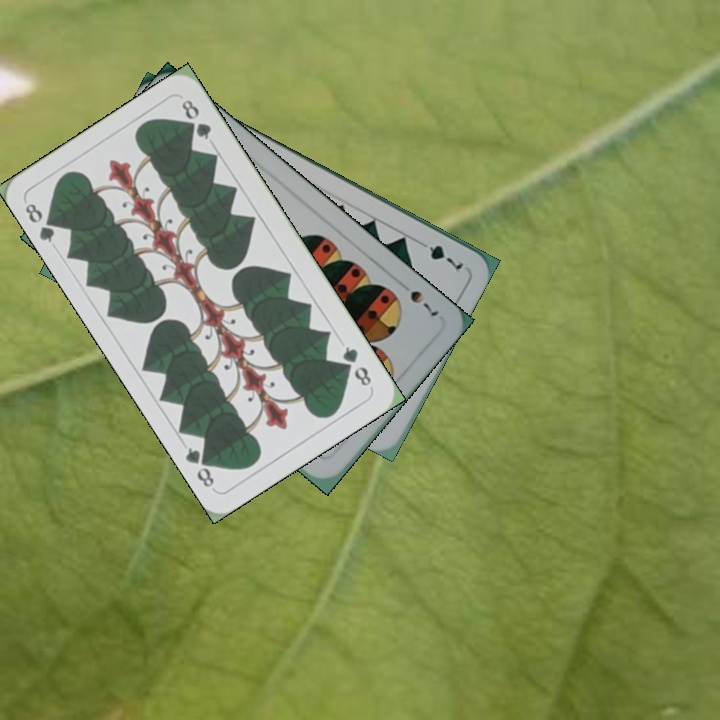G7: (413, 237, 466, 273)
G8: (20, 199, 62, 246), (338, 341, 374, 389)
S7: (394, 277, 442, 319)
